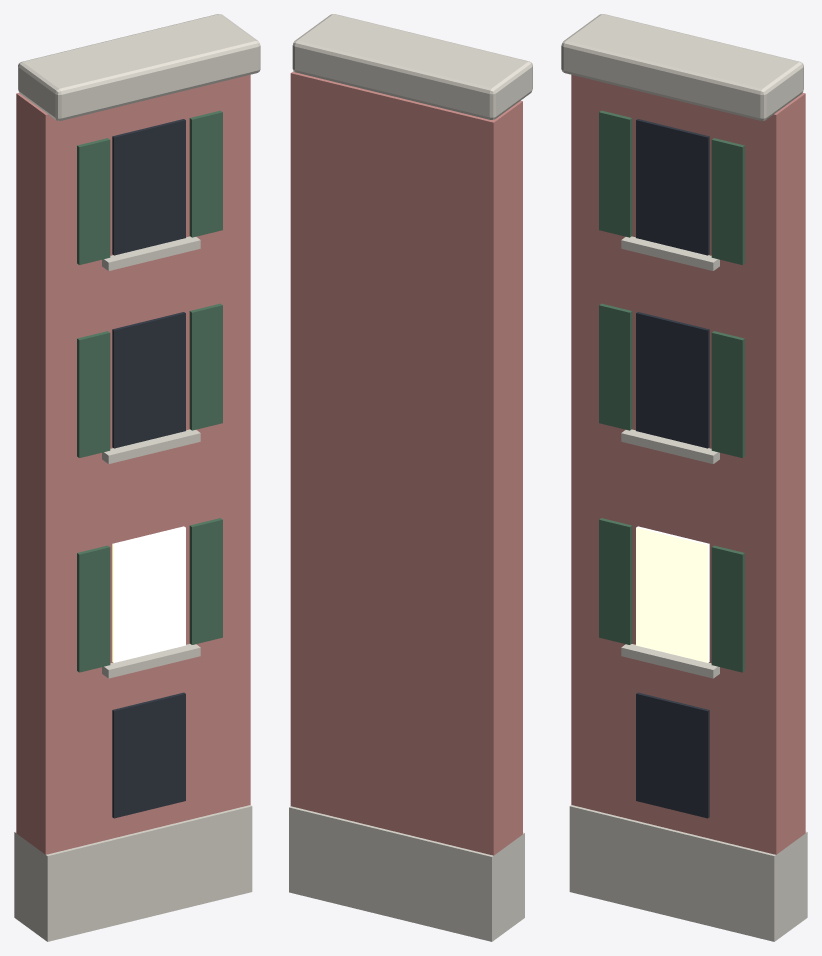
Rendered from FacadeRose.glb.
3 renders of one model, left to right at view 1: azimuth 30°, elevation 25°; view 2: azimuth 150°, elevation 25°; view 3: azimuth 330°, elevation 25°, orthographic.
Visible parts, largest first — view 1: FacadeRose; view 2: FacadeRose; view 3: FacadeRose.
Part boxes in pixels (x1,y1,x2,y2): FacadeRose: [14, 14, 260, 941]; FacadeRose: [289, 14, 532, 941]; FacadeRose: [561, 14, 807, 941].
Size of the model in its own units: 2 by 8 by 0.73.
